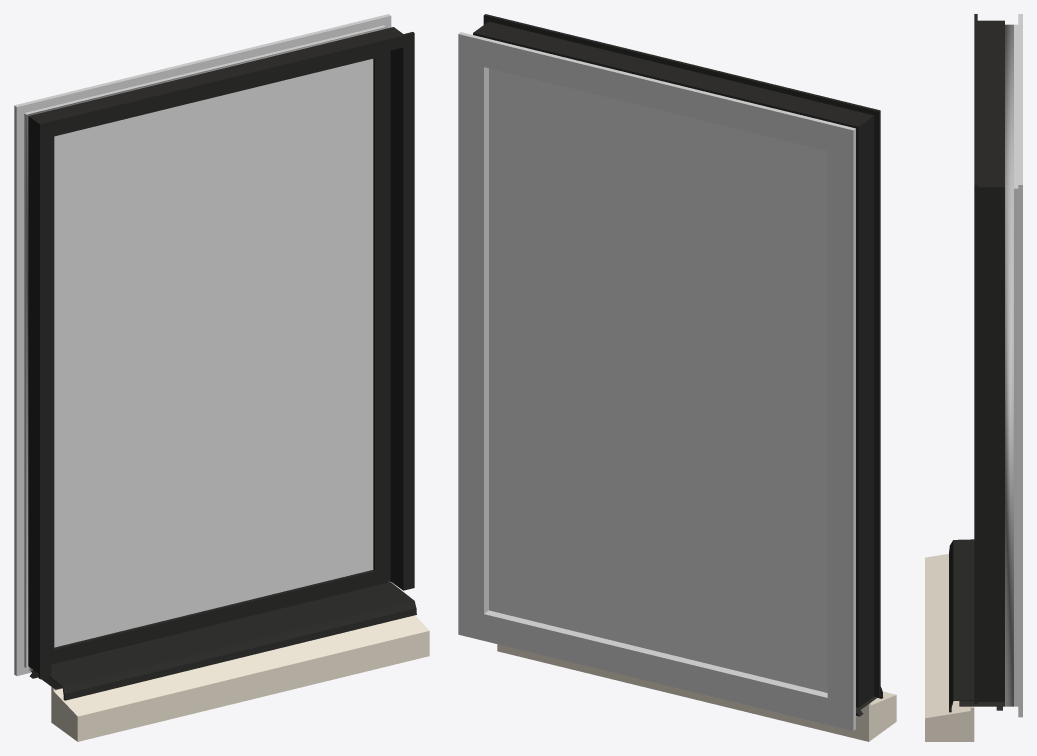
The model's file is frame_window.fbx.
The picture shows the model from 3 angles, left to right: view 1: azimuth 30°, elevation 25°; view 2: azimuth 150°, elevation 25°; view 3: azimuth 270°, elevation 25°; orthographic projection. The views are drawn at different scales.
Parts seen in each view (by area): view 1: Glass, Frame_Outside, Sill, Frame_inside, Structural; view 2: Glass, Frame_inside, Frame_Outside, Sill; view 3: Frame_Outside, Frame_inside, Structural, Sill.
Boxes of the visible parts, x1,y1,x2,y2 form: Glass: [54, 59, 373, 647]; Frame_Outside: [28, 27, 416, 700]; Sill: [51, 615, 429, 741]; Frame_inside: [14, 14, 391, 675]; Structural: [26, 27, 390, 671]; Glass: [489, 68, 827, 692]; Frame_inside: [458, 32, 855, 730]; Frame_Outside: [473, 14, 883, 716]; Sill: [497, 644, 896, 741]; Frame_Outside: [949, 14, 1004, 712]; Frame_inside: [1014, 14, 1022, 717]; Structural: [1005, 24, 1013, 706]; Sill: [925, 554, 974, 741].
Size of the model in its own units: 106 by 163 by 25.75.
